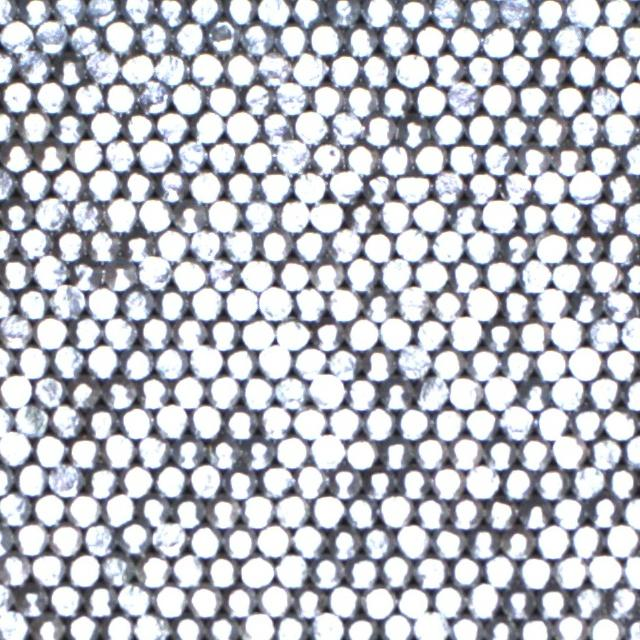tool: (293, 462, 328, 497), (14, 520, 48, 555), (570, 463, 605, 497), (396, 344, 431, 378), (292, 109, 327, 143), (448, 315, 482, 350), (152, 582, 186, 617), (605, 584, 639, 619), (275, 138, 309, 173), (13, 460, 48, 494), (257, 342, 291, 377), (586, 316, 620, 351), (117, 520, 151, 555), (533, 229, 568, 263), (551, 433, 585, 468), (534, 404, 569, 438), (189, 402, 223, 437), (292, 403, 326, 438), (310, 433, 344, 468), (85, 342, 119, 377), (31, 432, 66, 466), (413, 257, 448, 291), (152, 520, 186, 554), (605, 522, 639, 556), (309, 373, 343, 407), (431, 583, 465, 617), (293, 286, 327, 320), (396, 284, 430, 318), (103, 315, 137, 349), (66, 492, 100, 526), (240, 257, 274, 291), (275, 492, 309, 526), (100, 551, 134, 585), (30, 551, 64, 585), (552, 494, 586, 528), (14, 344, 48, 378), (48, 521, 82, 555), (50, 283, 84, 317), (292, 345, 326, 379), (396, 522, 430, 556), (602, 111, 636, 145), (292, 169, 326, 203), (604, 345, 638, 379), (586, 374, 620, 408), (378, 82, 412, 116), (329, 110, 363, 144), (206, 256, 240, 290), (66, 551, 100, 585), (206, 437, 240, 471), (535, 585, 569, 619), (48, 462, 82, 496), (292, 51, 326, 85), (569, 523, 603, 557), (570, 584, 604, 618), (447, 79, 481, 113), (568, 168, 602, 202), (568, 344, 602, 378), (104, 258, 138, 292), (82, 522, 116, 556), (291, 522, 325, 556), (553, 554, 587, 588), (518, 554, 552, 588), (274, 552, 308, 586), (587, 553, 621, 587), (239, 553, 273, 587), (395, 226, 429, 260), (188, 51, 222, 85), (257, 582, 291, 616), (550, 199, 584, 233), (138, 197, 172, 231), (67, 22, 101, 56), (34, 19, 68, 53), (67, 374, 101, 408), (586, 199, 620, 233), (310, 554, 344, 588), (414, 376, 448, 410), (17, 48, 51, 82), (239, 21, 273, 55), (33, 315, 67, 349), (117, 581, 151, 615), (136, 553, 170, 587), (223, 227, 257, 261), (499, 405, 533, 439), (516, 142, 550, 176), (51, 342, 84, 377), (102, 432, 135, 467), (395, 52, 428, 87), (311, 139, 344, 174), (311, 493, 344, 528), (362, 346, 395, 381), (483, 374, 516, 408), (257, 522, 290, 556), (1, 18, 34, 52), (206, 18, 239, 52), (277, 198, 310, 232), (241, 139, 274, 173), (69, 315, 103, 348), (205, 82, 239, 115), (345, 316, 378, 350), (240, 316, 274, 349), (190, 110, 224, 143), (102, 492, 135, 526), (275, 374, 308, 408), (154, 463, 187, 497), (431, 464, 464, 498), (552, 374, 585, 408), (328, 286, 361, 320), (67, 434, 100, 468), (344, 257, 378, 290), (17, 108, 51, 141), (189, 285, 222, 319), (223, 524, 256, 558), (483, 258, 517, 291), (138, 138, 171, 172), (432, 287, 465, 321), (466, 286, 499, 320), (466, 464, 499, 498), (431, 52, 464, 86), (448, 375, 482, 408), (172, 257, 205, 291), (501, 466, 534, 500), (449, 496, 482, 530), (483, 436, 516, 470), (172, 374, 206, 407), (0, 78, 33, 112), (225, 285, 258, 319), (585, 22, 618, 56), (224, 168, 257, 202), (535, 466, 568, 500), (258, 169, 292, 202), (207, 139, 240, 173), (308, 22, 342, 55), (330, 465, 363, 499), (449, 434, 482, 468), (606, 465, 639, 499), (121, 168, 154, 202), (16, 285, 49, 319), (605, 170, 638, 204), (241, 374, 274, 408), (241, 80, 274, 114), (154, 403, 188, 436), (225, 109, 258, 143), (16, 225, 50, 258), (431, 406, 465, 439), (15, 584, 49, 617), (275, 433, 308, 467), (242, 197, 275, 231), (32, 373, 66, 406), (70, 197, 103, 231), (189, 463, 222, 497), (328, 526, 361, 560), (15, 401, 48, 435), (484, 496, 517, 530), (551, 258, 584, 292), (172, 434, 205, 468), (275, 80, 308, 114), (431, 228, 464, 262), (189, 168, 222, 202), (259, 462, 292, 496), (171, 553, 205, 586), (361, 584, 395, 617), (517, 435, 550, 469), (103, 376, 137, 409), (346, 554, 379, 588), (465, 406, 498, 440), (86, 166, 119, 200), (32, 491, 65, 525), (586, 436, 620, 469), (601, 53, 635, 86), (516, 82, 549, 116), (415, 495, 448, 529), (310, 83, 344, 116), (188, 227, 222, 260), (258, 228, 292, 261), (223, 52, 257, 85), (414, 554, 447, 588), (517, 24, 550, 58), (86, 48, 119, 82), (516, 200, 550, 233), (104, 196, 136, 231), (588, 493, 620, 528), (414, 316, 446, 351), (482, 198, 515, 231), (103, 18, 136, 51), (536, 523, 569, 556), (155, 109, 188, 142), (328, 345, 361, 378), (70, 137, 103, 170), (88, 109, 121, 142), (120, 463, 153, 496), (241, 494, 274, 527), (206, 197, 239, 230), (329, 167, 362, 200), (207, 373, 240, 406), (154, 345, 187, 378), (432, 524, 465, 557), (379, 142, 412, 175), (431, 346, 464, 379), (172, 21, 205, 54), (397, 584, 430, 617), (345, 496, 378, 529), (432, 168, 465, 201), (17, 167, 50, 200), (258, 286, 291, 319), (172, 317, 205, 350), (276, 316, 309, 349), (397, 466, 430, 499), (585, 82, 618, 115), (534, 113, 567, 146), (447, 141, 480, 174), (1, 139, 34, 172), (345, 435, 378, 468), (534, 286, 567, 319), (174, 139, 207, 172), (483, 553, 516, 586), (276, 22, 309, 55), (224, 346, 257, 379), (550, 316, 583, 349), (345, 83, 378, 116), (292, 585, 325, 618), (120, 346, 153, 379), (189, 344, 222, 377), (345, 142, 378, 175), (361, 525, 394, 558), (171, 80, 204, 113), (53, 110, 86, 143), (465, 112, 498, 145), (34, 196, 67, 229), (224, 466, 257, 499), (380, 377, 413, 410), (413, 198, 446, 231), (466, 583, 499, 616), (484, 319, 517, 352), (570, 406, 603, 439), (207, 317, 240, 350), (379, 256, 412, 289), (466, 346, 499, 379), (449, 258, 482, 291), (51, 403, 84, 436), (360, 53, 393, 86), (587, 258, 620, 291), (311, 259, 344, 292), (223, 584, 256, 617), (448, 200, 481, 233), (257, 50, 290, 83), (328, 405, 361, 438), (258, 404, 291, 437), (120, 404, 153, 437), (87, 229, 120, 262), (466, 525, 499, 558), (224, 406, 257, 439), (501, 230, 534, 263), (33, 255, 66, 288), (413, 82, 446, 115), (517, 378, 550, 411), (361, 229, 394, 262), (362, 406, 395, 439), (137, 79, 170, 112), (414, 435, 447, 468), (85, 465, 118, 498), (52, 166, 84, 200), (104, 80, 136, 114), (500, 112, 532, 146), (104, 137, 136, 171), (310, 198, 342, 232), (380, 492, 412, 526), (0, 372, 32, 406), (482, 80, 514, 114), (380, 315, 412, 349), (278, 257, 310, 291), (380, 22, 412, 56), (71, 80, 103, 114), (380, 553, 412, 587), (328, 52, 360, 86), (552, 142, 584, 176), (0, 314, 32, 348), (605, 230, 637, 264), (346, 376, 380, 408), (500, 169, 532, 203), (395, 170, 429, 202), (208, 495, 240, 529), (380, 436, 412, 470), (327, 582, 359, 616), (502, 585, 534, 619), (413, 141, 445, 175), (82, 584, 116, 616), (363, 112, 395, 146), (137, 256, 171, 288), (465, 52, 497, 86), (53, 228, 87, 260), (136, 434, 170, 466), (138, 374, 170, 408), (312, 318, 344, 352), (379, 198, 411, 231), (534, 168, 566, 201), (482, 141, 514, 174), (568, 112, 601, 144), (139, 316, 171, 349), (570, 232, 603, 264), (534, 346, 567, 378), (156, 287, 188, 320), (552, 82, 584, 115), (534, 54, 567, 86), (501, 289, 533, 322), (501, 348, 534, 380), (432, 111, 464, 144), (502, 526, 534, 559), (206, 554, 238, 587), (172, 496, 205, 528), (518, 258, 551, 290), (587, 142, 619, 175), (603, 288, 635, 321), (0, 256, 32, 289), (188, 584, 221, 616), (156, 168, 188, 201), (552, 23, 584, 56), (122, 287, 154, 320), (482, 24, 515, 56), (500, 52, 532, 85), (397, 115, 430, 147), (466, 229, 498, 262), (260, 109, 292, 142), (466, 169, 498, 202), (448, 24, 481, 56), (449, 554, 482, 586), (414, 23, 446, 56), (138, 20, 170, 53), (604, 406, 636, 439), (294, 227, 326, 260), (188, 524, 221, 556), (154, 228, 187, 260), (242, 436, 274, 469), (328, 228, 360, 261), (345, 200, 378, 232), (54, 53, 86, 86), (174, 200, 206, 233), (518, 498, 551, 530), (568, 290, 601, 322), (36, 140, 68, 173), (34, 80, 67, 112), (363, 170, 395, 203), (67, 260, 100, 292), (363, 290, 395, 323), (364, 466, 396, 499), (85, 405, 117, 438), (0, 551, 31, 585), (568, 53, 600, 85), (123, 110, 155, 142), (155, 52, 187, 84), (346, 24, 378, 56), (0, 199, 32, 231), (138, 494, 170, 526), (516, 319, 548, 351), (397, 406, 429, 438), (49, 582, 81, 614), (87, 286, 119, 318), (121, 52, 153, 84), (0, 491, 30, 525), (0, 429, 30, 463), (122, 231, 154, 262), (240, 611, 274, 640), (380, 611, 413, 640), (310, 612, 344, 640), (134, 612, 168, 640), (414, 612, 448, 640), (326, 0, 361, 27), (31, 613, 66, 640), (102, 611, 134, 640), (66, 612, 99, 640), (465, 0, 498, 28), (344, 613, 378, 640), (601, 0, 635, 27), (0, 609, 29, 640), (534, 0, 566, 28), (431, 0, 464, 27), (275, 613, 308, 640), (396, 0, 429, 27), (553, 613, 586, 640), (206, 613, 239, 640), (498, 0, 532, 26), (566, 0, 600, 26), (362, 0, 394, 27), (155, 0, 188, 26), (256, 0, 290, 25), (588, 615, 622, 640), (172, 614, 204, 640), (450, 614, 482, 640), (519, 615, 552, 640), (484, 615, 517, 640), (290, 0, 323, 25), (85, 0, 118, 25), (120, 0, 154, 24), (18, 0, 50, 25), (52, 0, 85, 24), (224, 0, 256, 24), (189, 0, 222, 23), (619, 80, 640, 114), (619, 23, 640, 56), (620, 316, 640, 350), (621, 495, 640, 529), (620, 142, 640, 174), (621, 200, 640, 233), (621, 260, 640, 292), (622, 376, 640, 409), (623, 553, 640, 587), (622, 434, 640, 466), (0, 108, 15, 142), (0, 165, 15, 199), (0, 286, 15, 319), (0, 226, 15, 259), (0, 50, 15, 83), (0, 344, 14, 378), (0, 522, 14, 556), (0, 461, 13, 495), (0, 402, 13, 434), (0, 0, 17, 24)
